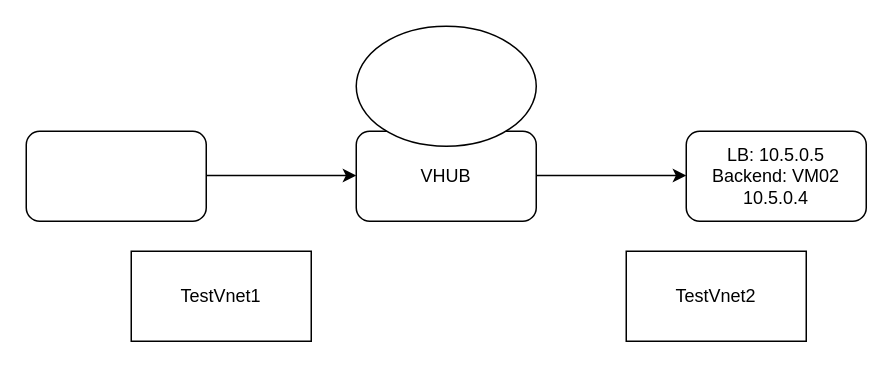
This 893x368 diagram has some shape labels left out. The centre of each missing label's shape, as x and y in pixels:
"FW 10.1.64.5 10.1.64.6" goes at (445,85).
"VM01 10.4.0.4" goes at (115,175).
